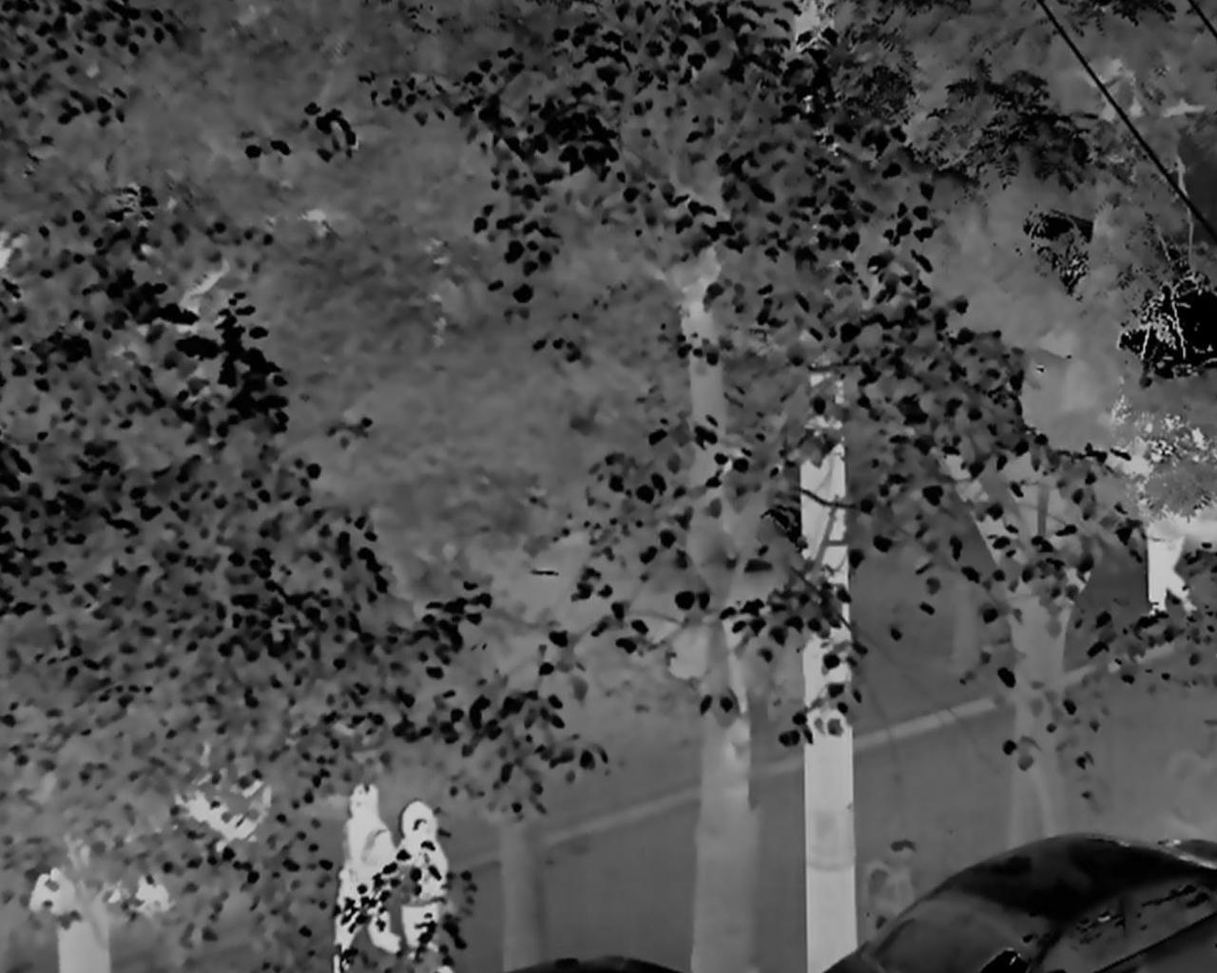person: (324, 773, 396, 969), (1140, 416, 1202, 629), (389, 795, 454, 973)
